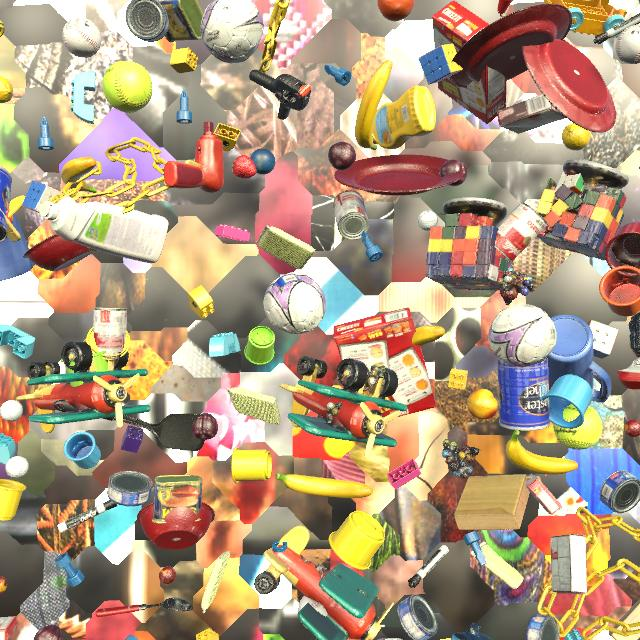ycb_002_master_chef_can: (497, 357, 551, 431), (0, 166, 12, 242)
ycb_003_cracker_box: (334, 307, 437, 417), (432, 0, 507, 124)
ycb_005_tomato_soup_can: (494, 202, 547, 263), (333, 190, 369, 240), (93, 308, 127, 359)
ycb_006_mustard_bottle: (373, 86, 436, 149)
ycb_007_tuna_fish_can: (397, 594, 438, 640), (126, 0, 170, 42), (599, 470, 640, 513), (107, 471, 153, 507), (526, 614, 560, 640), (272, 274, 307, 293)
ycb_008_pudding_box: (497, 94, 566, 134), (551, 534, 587, 594)
ycb_009_gelatin_box: (525, 474, 563, 515), (0, 616, 17, 640)
ycb_010_potted_meat_can: (152, 475, 202, 523), (158, 0, 204, 42)
ycb_011_banana: (355, 60, 393, 150), (506, 430, 578, 475), (276, 473, 373, 498), (61, 157, 97, 193), (412, 325, 445, 347)
ycb_012_strawberry: (232, 155, 256, 179)
ycb_014_lemon: (562, 123, 591, 151), (0, 76, 13, 104), (629, 340, 636, 355), (88, 247, 98, 251)
ycb_015_peach: (467, 389, 498, 420)
ycb_017_orange: (377, 0, 415, 21)
ycb_018_plum: (328, 142, 356, 170), (191, 413, 218, 440), (440, 160, 467, 186), (34, 625, 63, 640)
